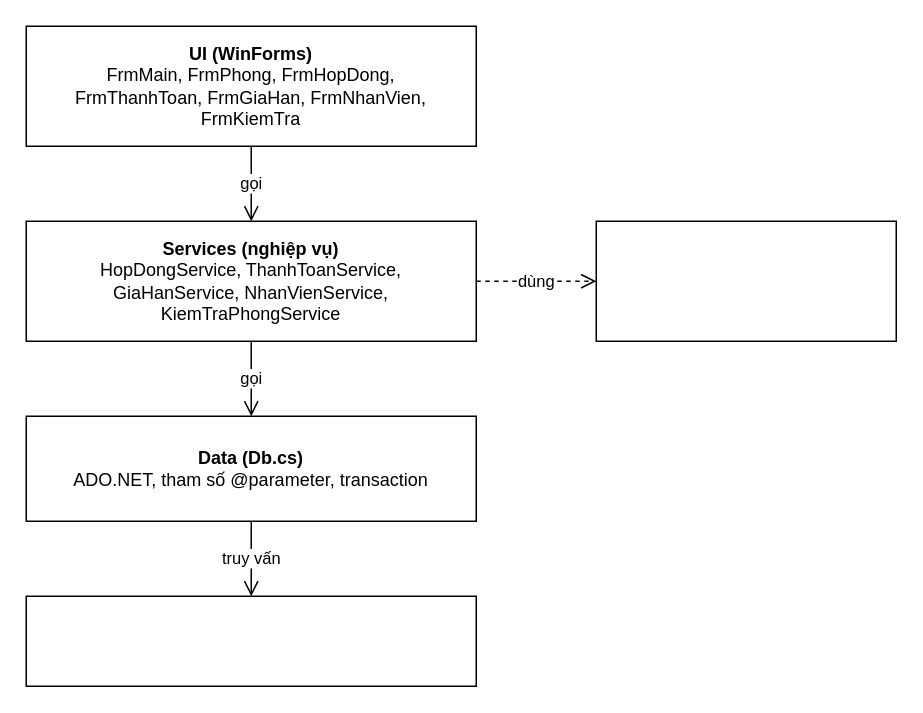
Some shapes in this 923 by 713 pixel diagram are drawn without their labels. The centre of each missing label's shape, as x and y in pixels:
Models Domain.cs, ServiceResult: [745,280]
SQL Server CSDL QuanLyCaoOc (14 bảng): [250,640]
